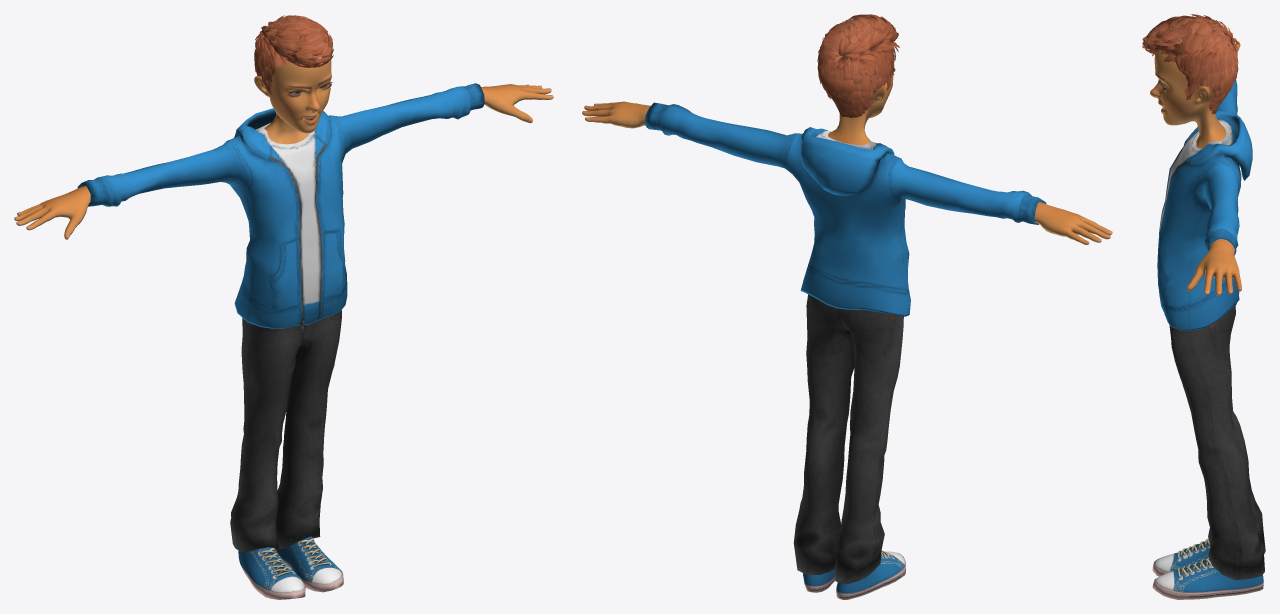
The model's file is Player 2.obj.
3 renders of one model, left to right at view 1: azimuth 30°, elevation 25°; view 2: azimuth 150°, elevation 25°; view 3: azimuth 270°, elevation 25°, orthographic.
Parts seen in each view (by area): view 1: Tops, Bottoms, Body, Shoes, Hair; view 2: Tops, Bottoms, Hair, Body, Shoes; view 3: Tops, Bottoms, Hair, Body, Shoes.
Boxes of the visible parts, x1,y1,x2,y2 form: Tops: [77, 83, 484, 331]; Bottoms: [230, 310, 341, 552]; Body: [14, 24, 553, 239]; Shoes: [238, 536, 343, 599]; Hair: [254, 15, 333, 94]; Tops: [644, 102, 1046, 316]; Bottoms: [793, 294, 903, 584]; Hair: [817, 14, 899, 117]; Body: [582, 30, 1112, 244]; Shoes: [803, 550, 905, 599]; Tops: [1157, 80, 1252, 330]; Bottoms: [1169, 303, 1265, 580]; Hair: [1142, 14, 1240, 114]; Body: [1150, 24, 1241, 295]; Shoes: [1152, 538, 1263, 599].
Size of the model in its own units: 169 by 171 by 34.08.
Materials: 1 (1 with a texture image).
